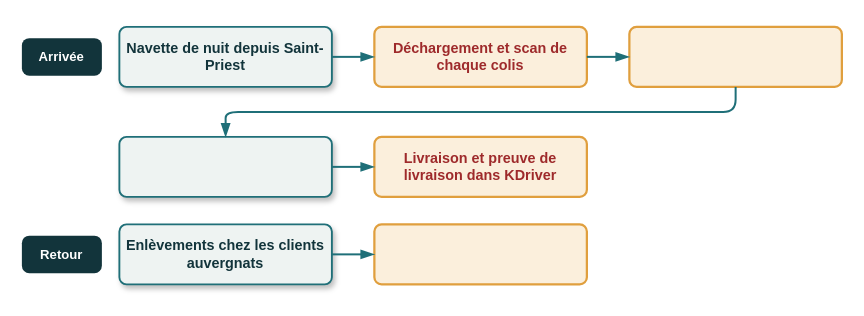
Image size: 864x316. Some labels were removed from this diagram. Each missing label, with the centre of its shape:
Départ des chauffeurs vers 6 h: point 226,168
Navette du soir vers Saint-Priest: point 480,254
Tri par tournée: point 735,56
